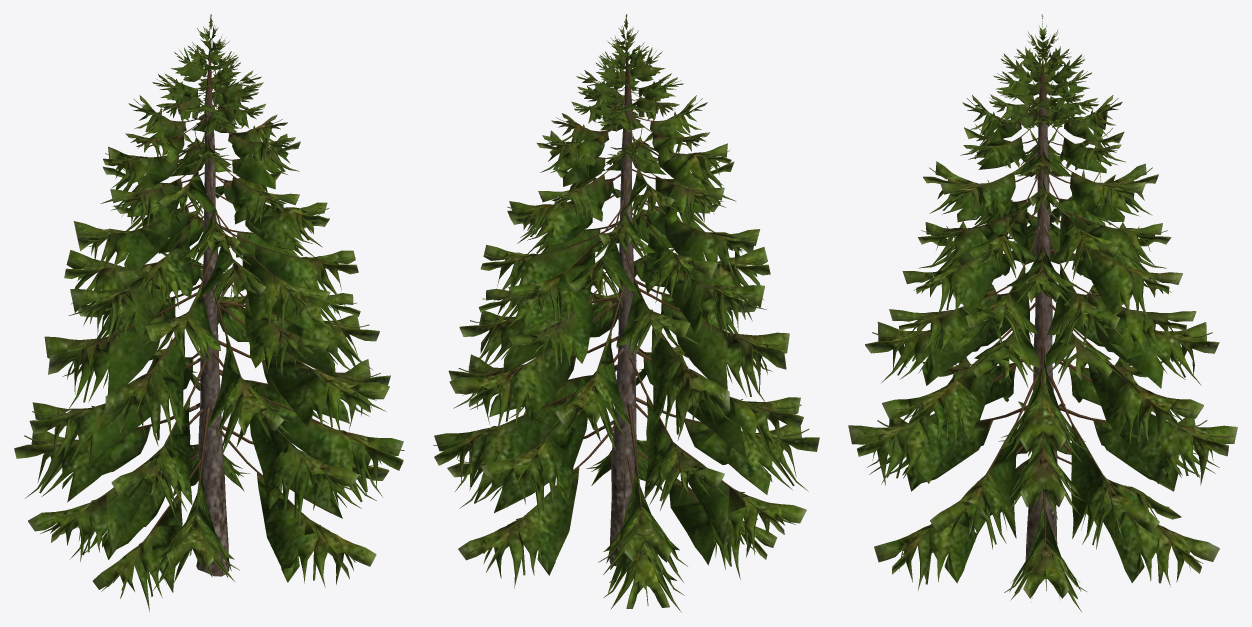
Rendered from pine_tree.glb.
3 views of the same model, side by side, from view 1: azimuth 30°, elevation 25°; view 2: azimuth 150°, elevation 25°; view 3: azimuth 270°, elevation 25° (orthographic).
Parts seen in each view (by area): view 1: tripo_node_51d6a2a0-df9c-4dd3-bd4d-9e6a1ca3214a; view 2: tripo_node_51d6a2a0-df9c-4dd3-bd4d-9e6a1ca3214a; view 3: tripo_node_51d6a2a0-df9c-4dd3-bd4d-9e6a1ca3214a.
Boxes of the visible parts, left/top/right/bottom form: tripo_node_51d6a2a0-df9c-4dd3-bd4d-9e6a1ca3214a: left=14, top=14, right=404, bottom=611; tripo_node_51d6a2a0-df9c-4dd3-bd4d-9e6a1ca3214a: left=433, top=14, right=819, bottom=612; tripo_node_51d6a2a0-df9c-4dd3-bd4d-9e6a1ca3214a: left=848, top=14, right=1237, bottom=611.
Bounding box in the file's own units: 0.6421 × 0.9995 × 0.6323.
1 material, 1 textured.
